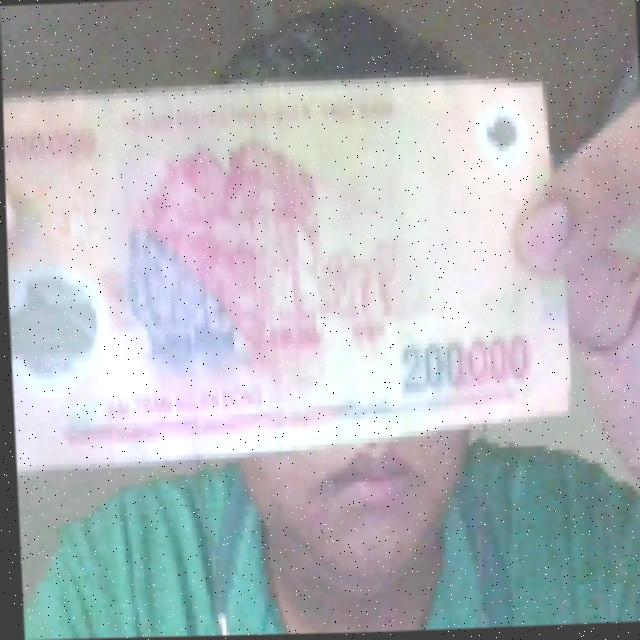200 000 VND: (2, 62, 577, 470)
